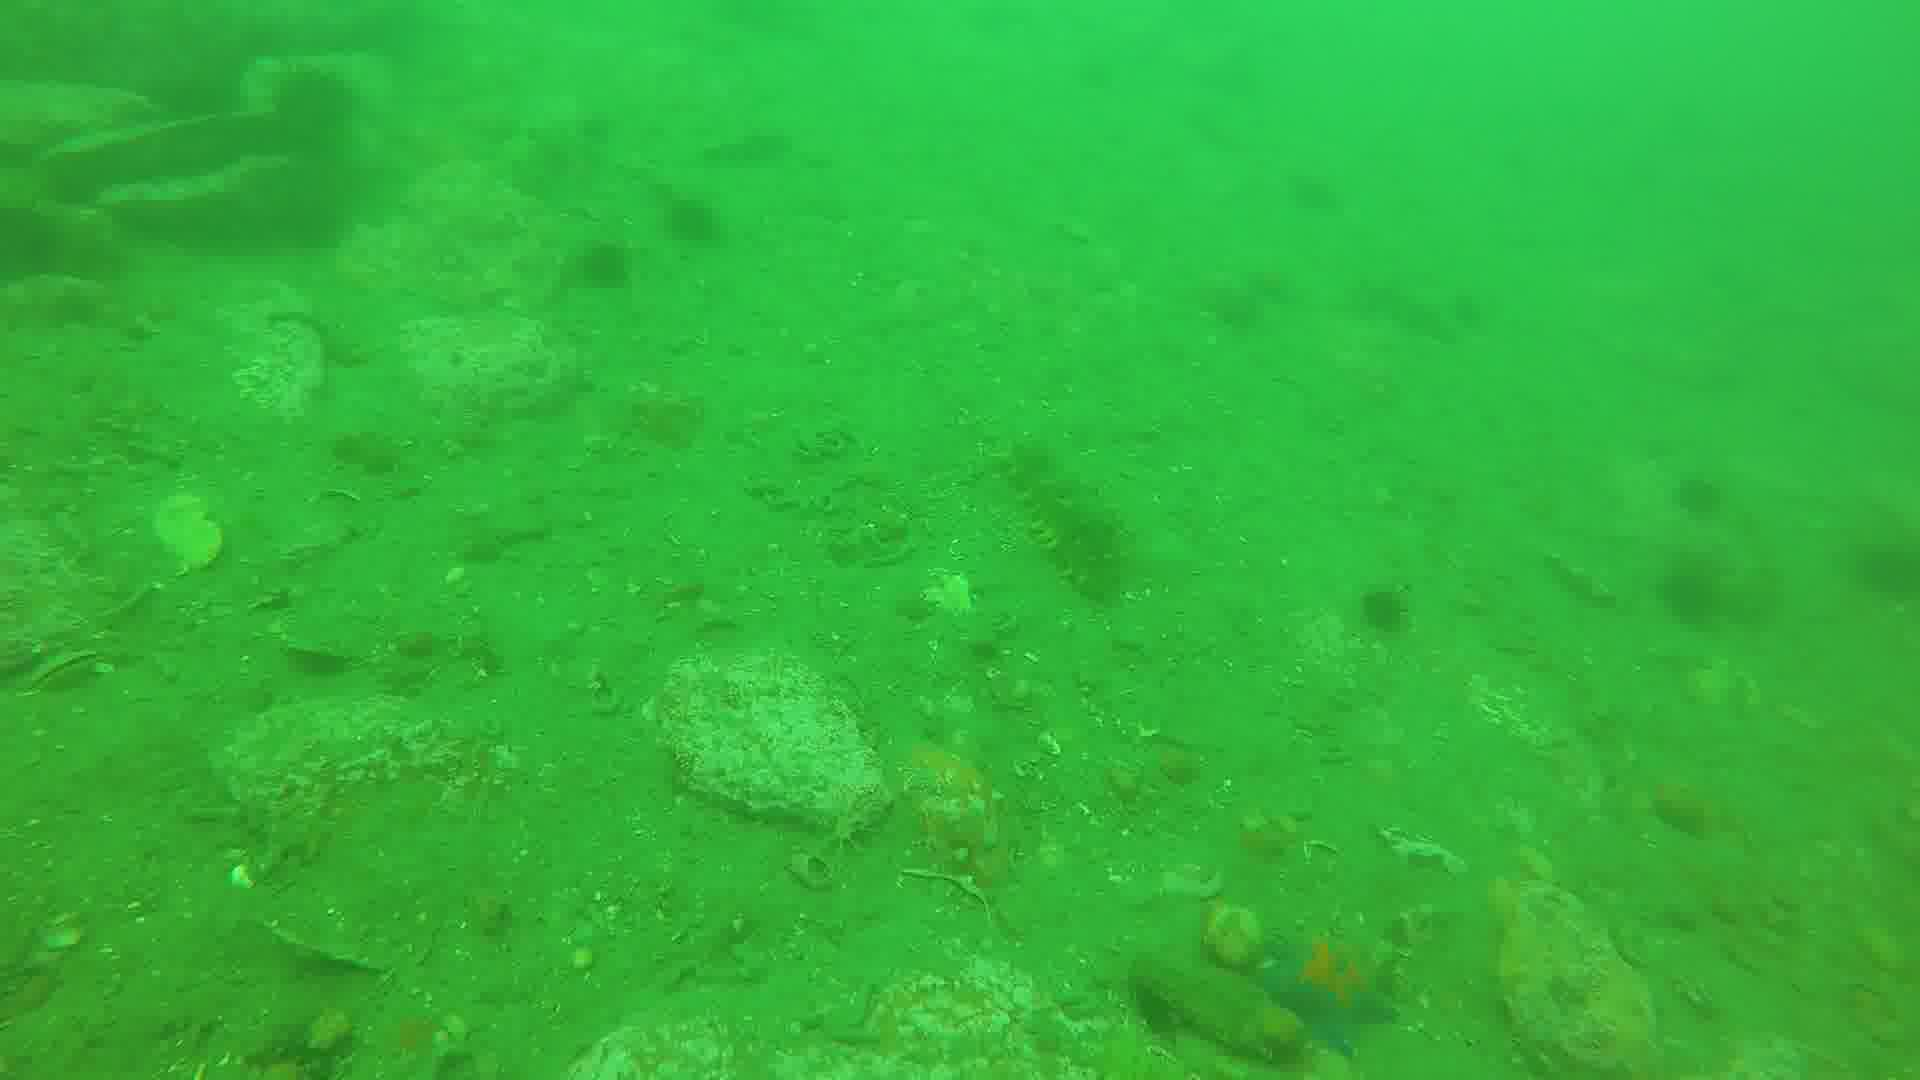echinus: (269, 69, 353, 148), (1358, 578, 1403, 640)
holothurian: (1116, 939, 1313, 1062), (1000, 431, 1124, 603)
starfish: (1269, 920, 1393, 1056)
